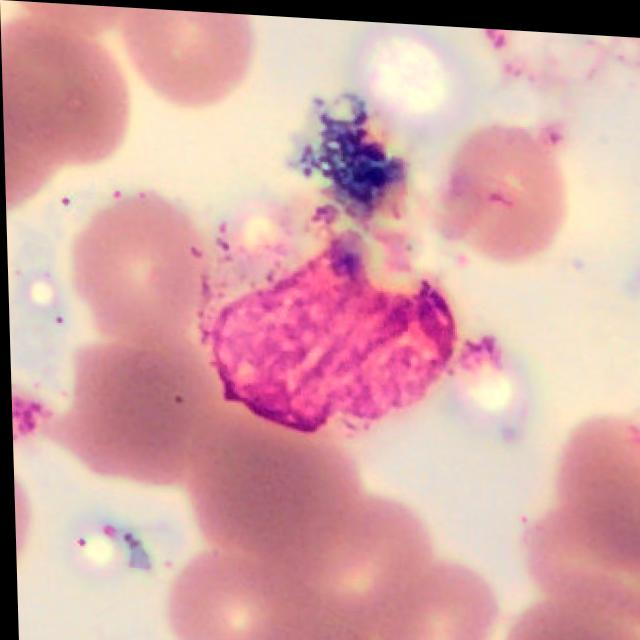Restos celulares: (197, 211, 460, 435)
